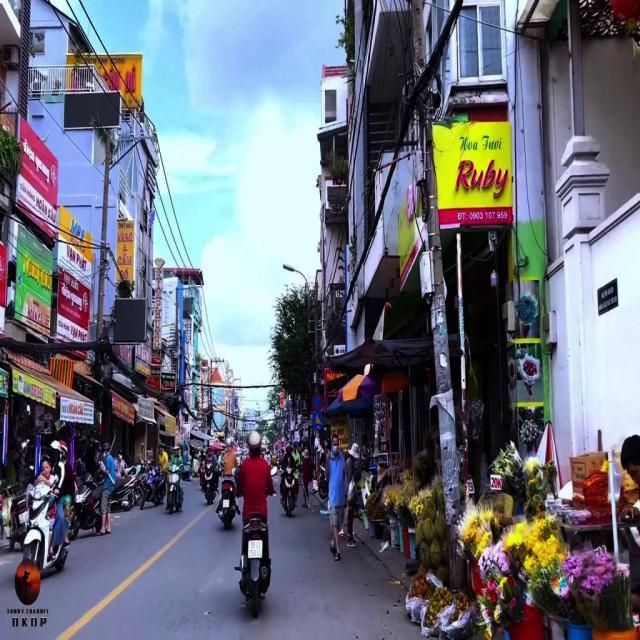442-cho: (313, 414, 323, 431)
